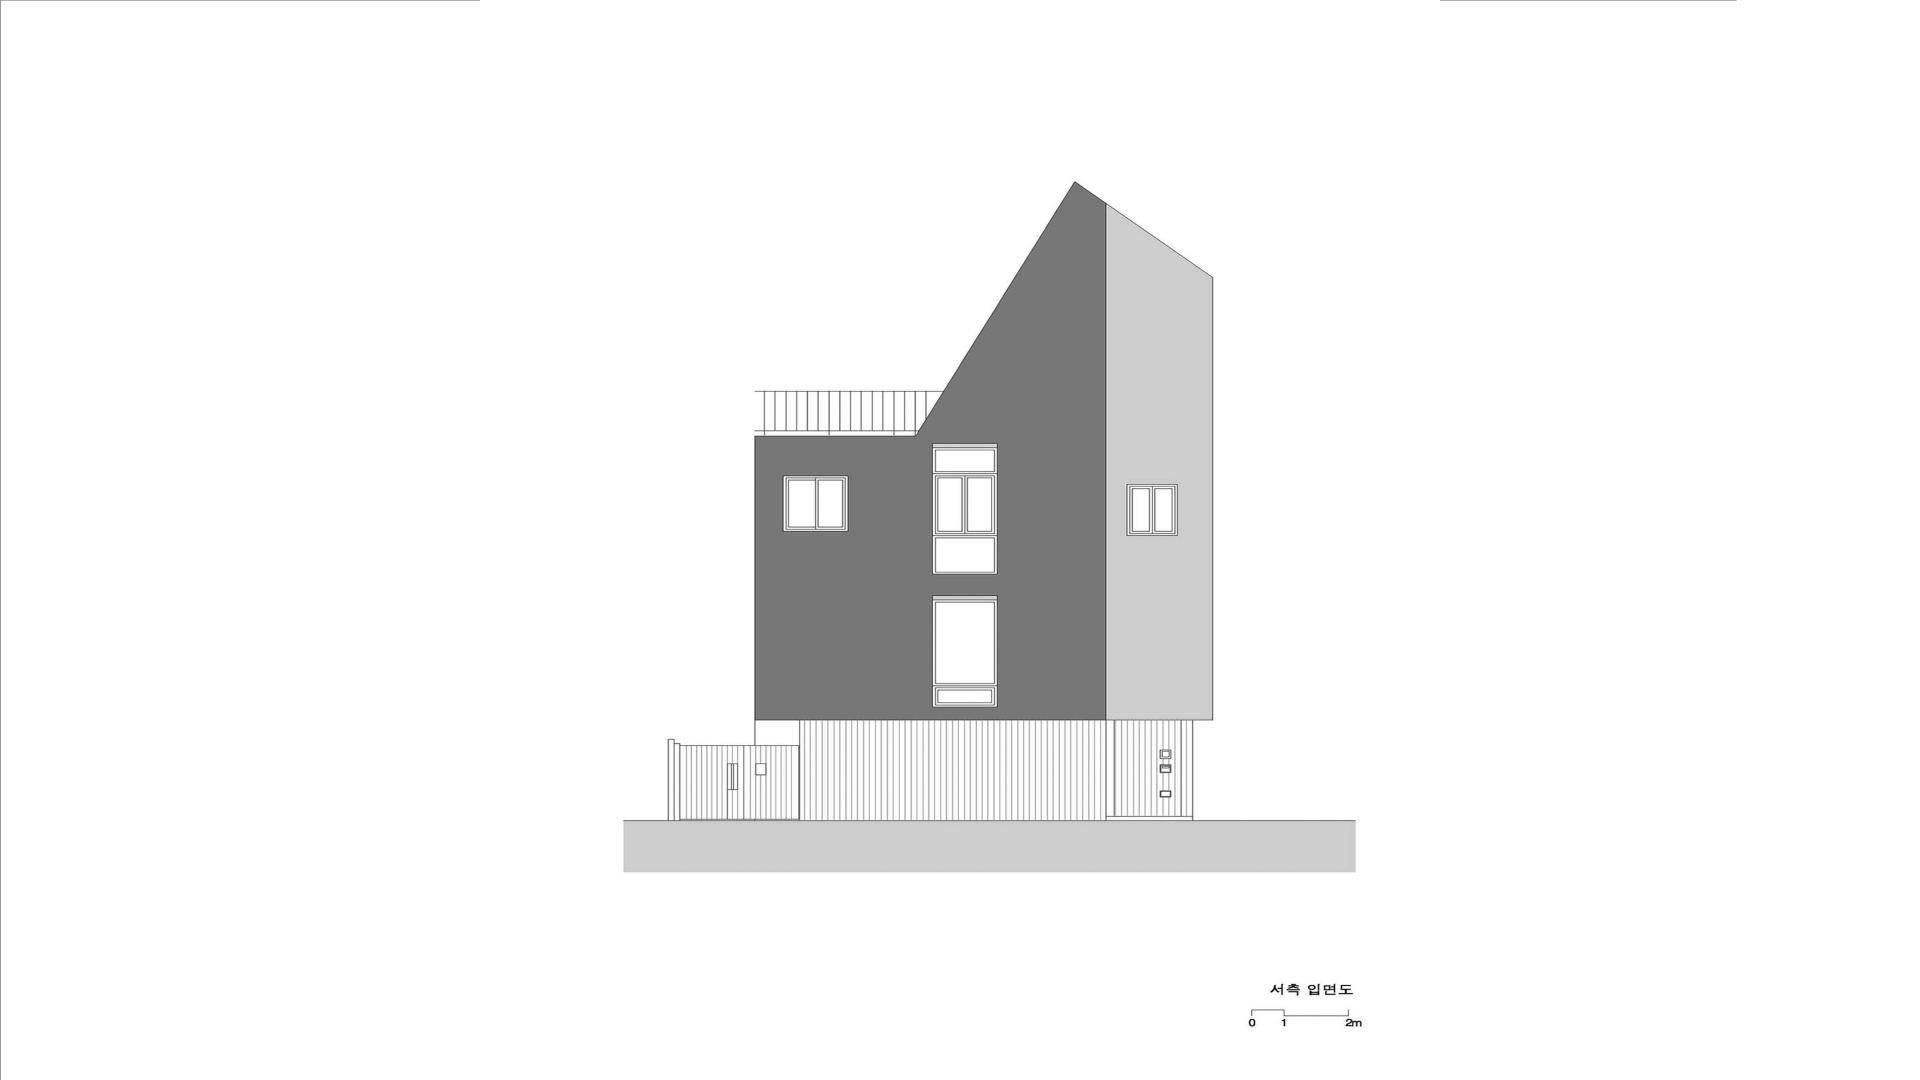wall: (668, 181, 1213, 821)
window: (932, 447, 998, 575), (931, 600, 998, 707), (782, 475, 849, 532), (1127, 484, 1178, 536), (727, 763, 738, 790), (755, 763, 767, 775), (1160, 749, 1171, 759), (1160, 764, 1171, 773), (1160, 790, 1171, 797)
